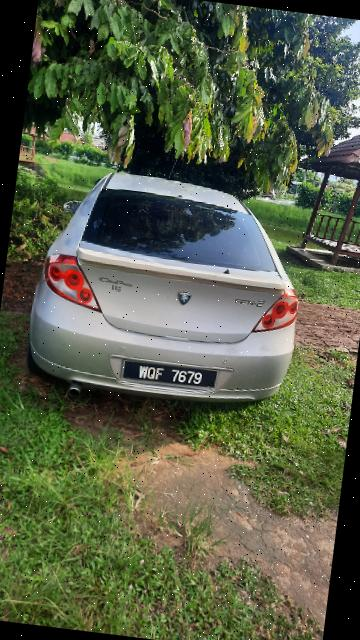License_Plate: (116, 353, 220, 395)
car: (21, 160, 317, 415)
